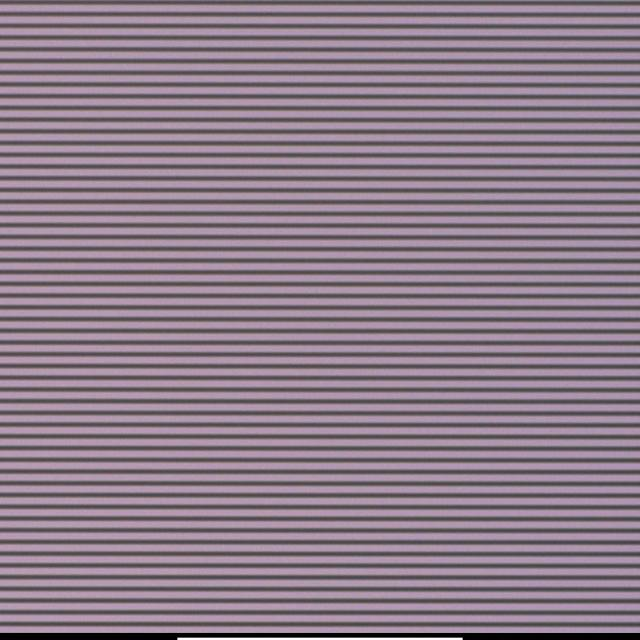nonvisual: (305, 279, 316, 290)
